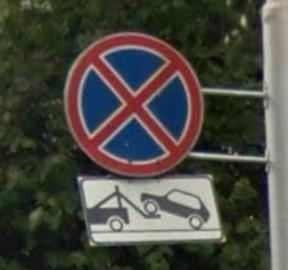No Parking: (64, 32, 206, 180)
